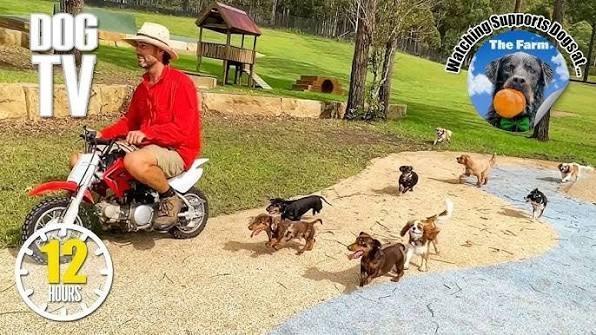adult_dog: (485, 49, 558, 137), (348, 232, 407, 286), (400, 212, 441, 271), (265, 193, 333, 223), (272, 218, 317, 257), (248, 211, 286, 244), (456, 154, 492, 188), (525, 188, 548, 222), (558, 162, 580, 193), (399, 165, 419, 195), (432, 127, 451, 150)
non-dog: (85, 24, 207, 222)
